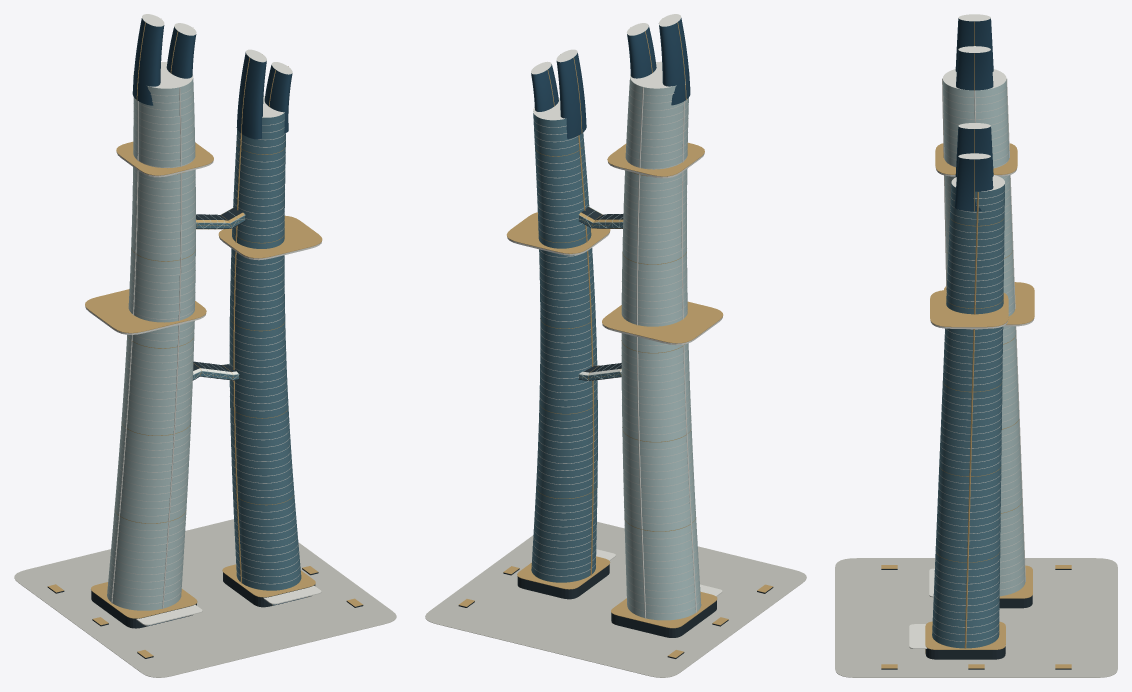
File: tower-lod0.glb
3 views of the same model, side by side, from view 1: azimuth 30°, elevation 25°; view 2: azimuth 150°, elevation 25°; view 3: azimuth 270°, elevation 25° (orthographic). The views are drawn at different scales.
Parts seen in each view (by area): view 1: GC-OFFICE-002-pearl, GC-OFFICE-002-glass, GC-OFFICE-002-stone, GC-OFFICE-002-white, GC-OFFICE-002-gold, GC-OFFICE-002-blue, GC-OFFICE-002-dark; view 2: GC-OFFICE-002-pearl, GC-OFFICE-002-glass, GC-OFFICE-002-stone, GC-OFFICE-002-white, GC-OFFICE-002-gold, GC-OFFICE-002-blue, GC-OFFICE-002-dark; view 3: GC-OFFICE-002-glass, GC-OFFICE-002-stone, GC-OFFICE-002-pearl, GC-OFFICE-002-white, GC-OFFICE-002-gold, GC-OFFICE-002-blue, GC-OFFICE-002-dark.
Boxes of the visible parts, x1,y1,x2,y2 form: GC-OFFICE-002-pearl: (107,75,245,610); GC-OFFICE-002-glass: (193,112,301,590); GC-OFFICE-002-stone: (14,519,396,677); GC-OFFICE-002-white: (85,14,321,625); GC-OFFICE-002-gold: (48,22,362,657); GC-OFFICE-002-blue: (132,18,306,626); GC-OFFICE-002-dark: (47,207,363,658); GC-OFFICE-002-pearl: (578,76,701,620); GC-OFFICE-002-glass: (531,113,623,582); GC-OFFICE-002-stone: (425,521,806,677); GC-OFFICE-002-white: (507,14,722,618); GC-OFFICE-002-gold: (459,22,773,657); GC-OFFICE-002-blue: (531,18,690,138); GC-OFFICE-002-dark: (458,207,773,658); GC-OFFICE-002-glass: (932,183,1004,648); GC-OFFICE-002-stone: (835,558,1117,677); GC-OFFICE-002-pearl: (943,79,1025,596); GC-OFFICE-002-white: (909,14,1034,648); GC-OFFICE-002-gold: (881,21,1071,668); GC-OFFICE-002-blue: (954,18,993,211); GC-OFFICE-002-dark: (881,569,1071,669).
Size of the model in its own units: 156 by 350 by 156.
